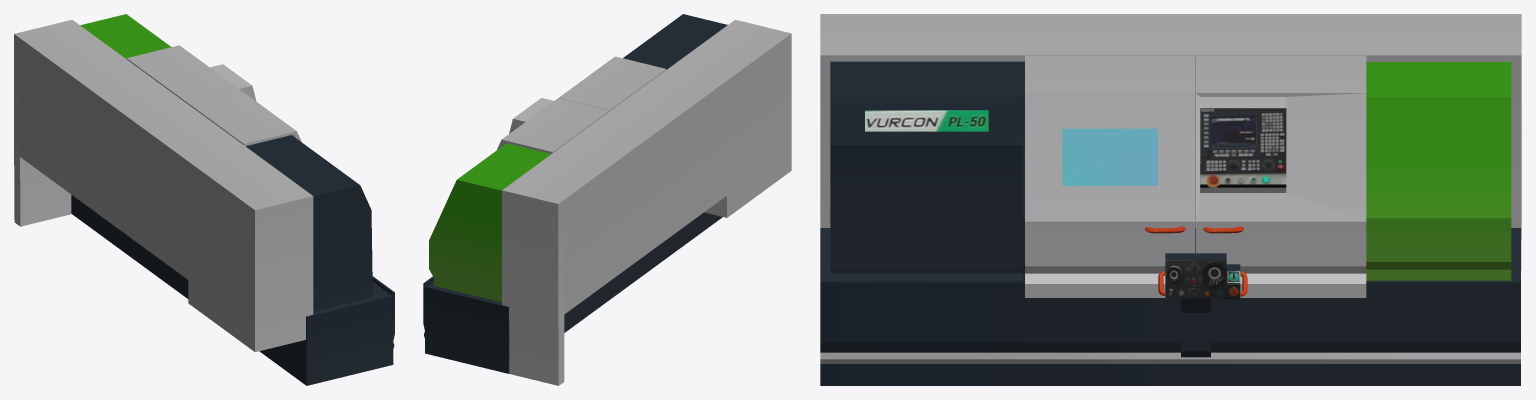
Rendered from vurcon_machine.glb.
3 renders of one model, left to right at view 1: azimuth 30°, elevation 25°; view 2: azimuth 150°, elevation 25°; view 3: azimuth 270°, elevation 25°, orthographic. The views are drawn at different scales.
Visible parts, largest first — view 1: Maquina; view 2: Maquina; view 3: Maquina.
Boxes of the visible parts, x1,y1,x2,y2 form: Maquina: (14, 14, 394, 385); Maquina: (423, 14, 791, 385); Maquina: (820, 14, 1521, 385).
Bounding box in the file's own units: 1.45 × 1.6 × 3.7.
Materials: 1 (1 with a texture image).
